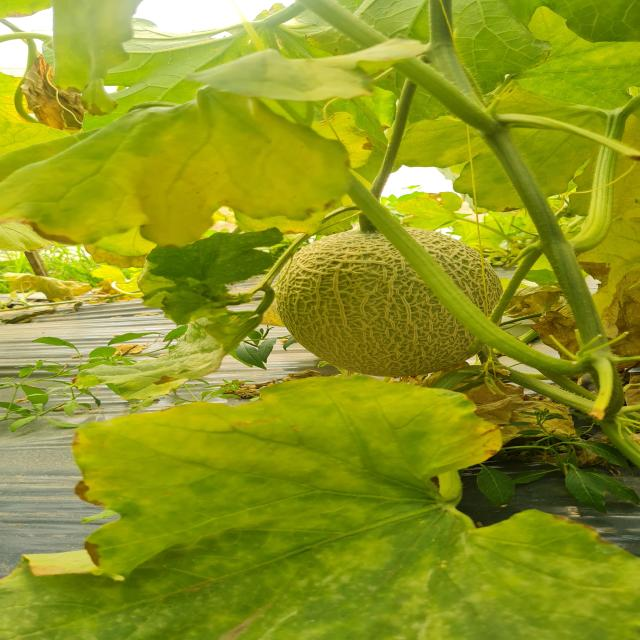melon: (276, 230, 473, 376), (407, 228, 502, 311)
